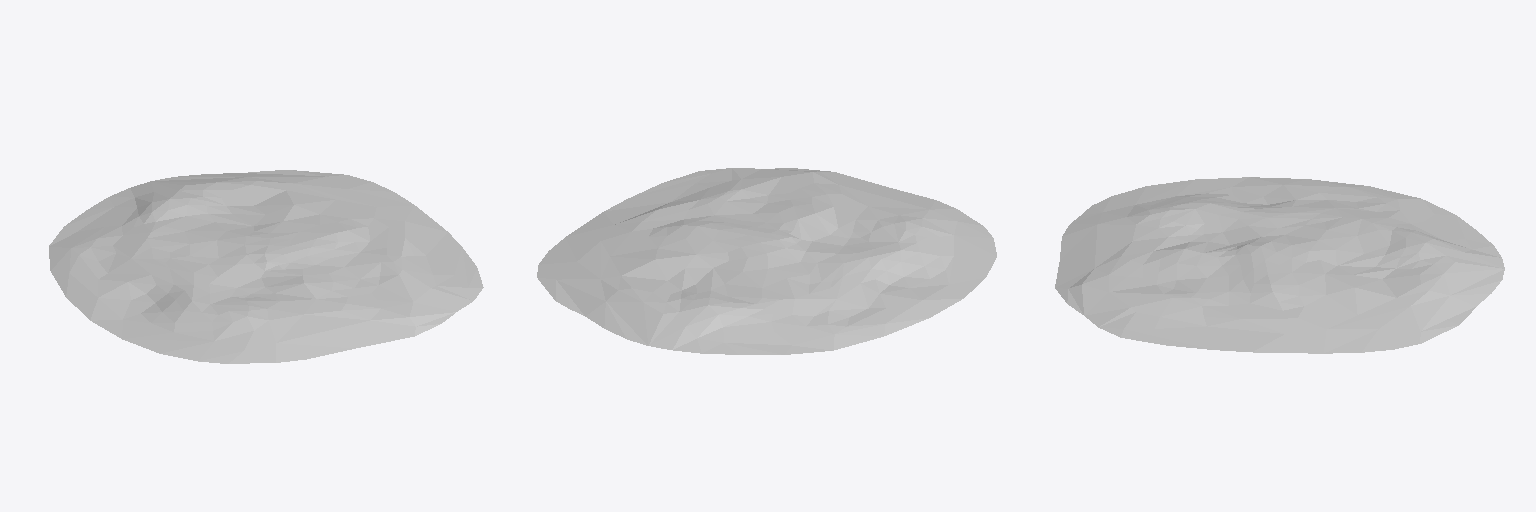
The model's file is SM_Generic_Ground_02.obj.
3 views of the same model, side by side, from view 1: azimuth 30°, elevation 25°; view 2: azimuth 150°, elevation 25°; view 3: azimuth 270°, elevation 25° (orthographic).
Bounding box in the file's own units: 1042 × 52.38 × 1123.